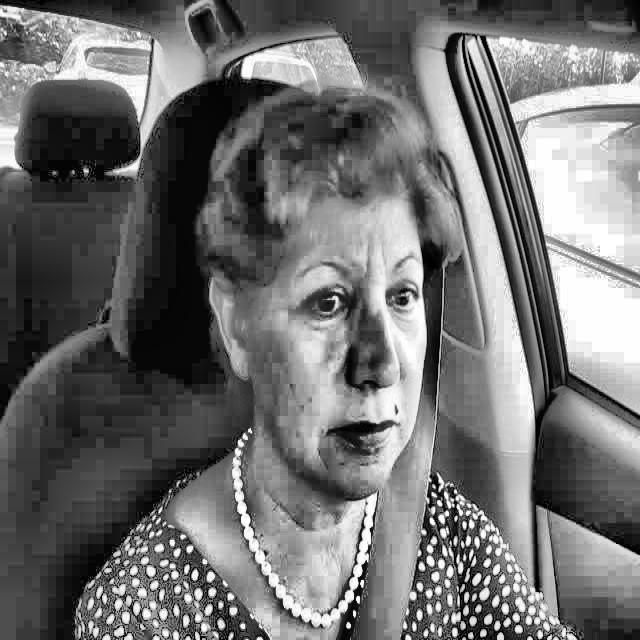closed_mouth: (310, 403, 420, 468)
open_eyes: (280, 275, 361, 329), (378, 275, 435, 327)
